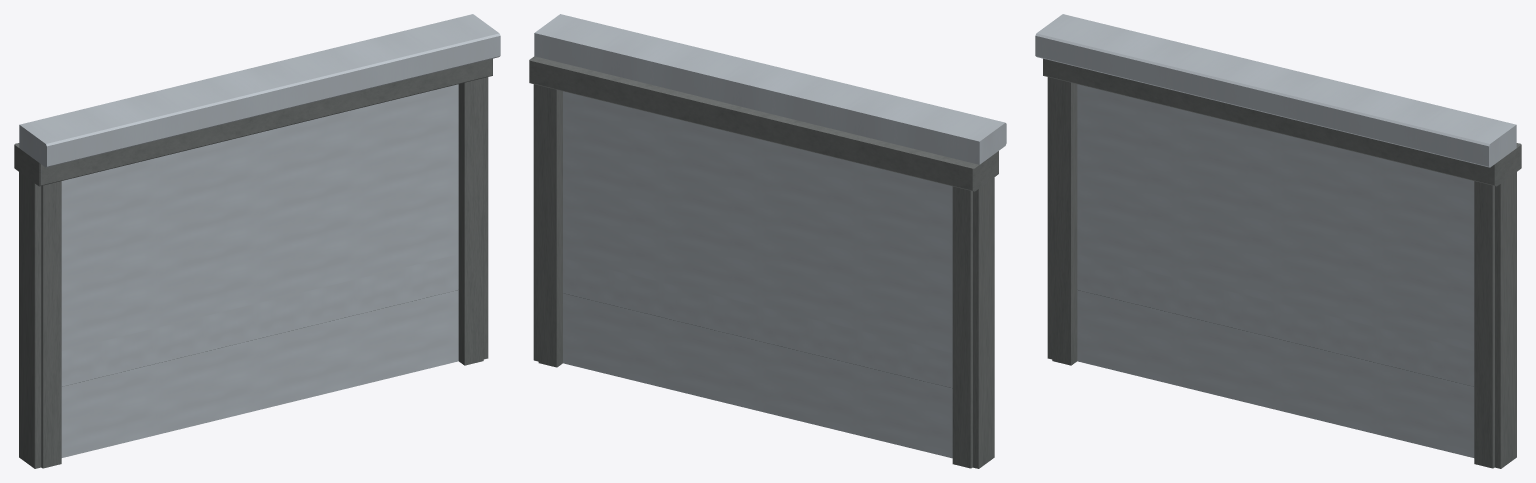
Rendered from ShutterDOor.fbx.
The picture shows the model from 3 angles, left to right: view 1: azimuth 30°, elevation 25°; view 2: azimuth 150°, elevation 25°; view 3: azimuth 330°, elevation 25°; orthographic projection.
Visible parts, largest first — view 1: ShutterDOor; view 2: ShutterDOor; view 3: ShutterDOor.
Boxes of the visible parts, left/top/right/bottom form: ShutterDOor: left=14, top=14, right=500, bottom=468; ShutterDOor: left=529, top=14, right=1006, bottom=468; ShutterDOor: left=1035, top=14, right=1521, bottom=468.
Bounding box in the file's own units: 4 × 2.81 × 0.5058.
